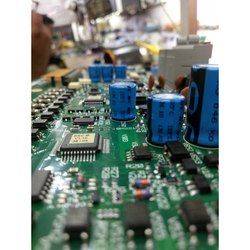capacitor: (145, 86, 186, 153), (106, 79, 140, 125)
